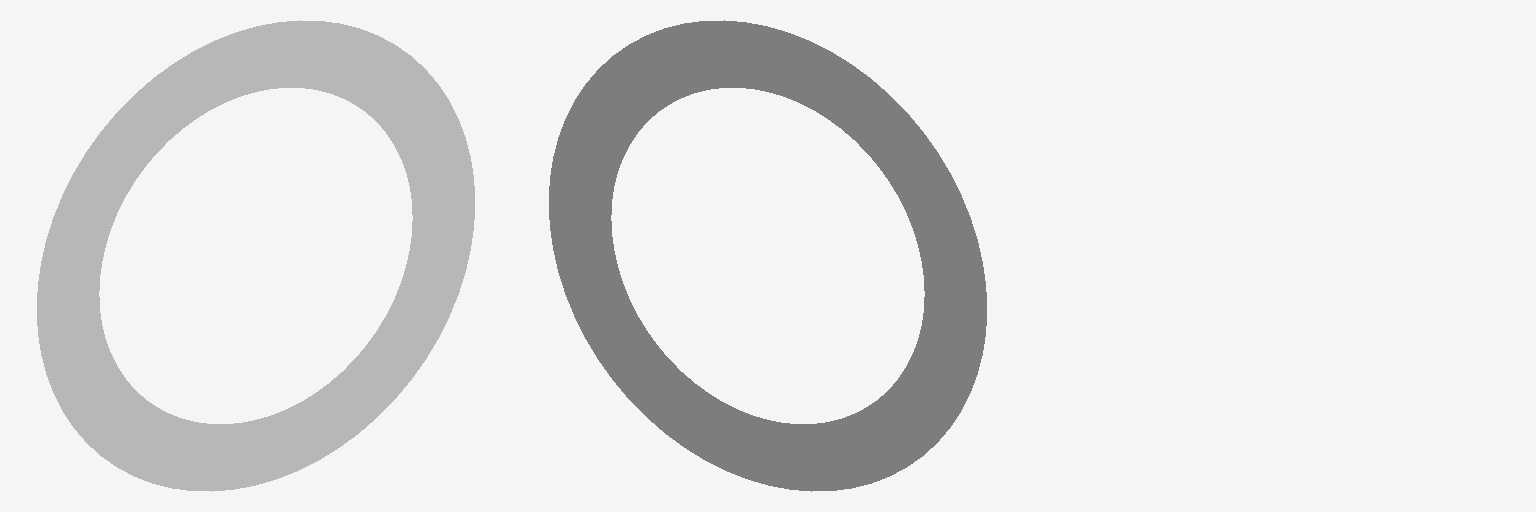
URDF robot description (race_gate):
<?xml version="1.0"?>
<robot name="race_gate">
  <link name="gate_link">
    <visual>
      <origin xyz="0 0 0" rpy="0 0 0"/>
      <geometry>
        <mesh filename="gate.obj"/>
      </geometry>
      <material name="white">
        <color rgba="1 1 1 1"/>
      </material>
    </visual>
    <collision>
      <origin xyz="0 0 0" rpy="0 0 0"/>
      <geometry>
        <mesh filename="gate.obj"/>
      </geometry>
    </collision>
    <inertial>
      <mass value="0.1"/>
      <inertia
        ixx="0.001" ixy="0" ixz="0"
        iyy="0.001" iyz="0"
        izz="0.001"/>
    </inertial>
  </link>
</robot>

--- What the picture shows (computed from the rendered views, not written in the file) ---
Views: 3 orthographic renders of the robot side by side, from view 1: azimuth 30°, elevation 25°; view 2: azimuth 150°, elevation 25°; view 3: azimuth 270°, elevation 25°.
Robot: race_gate — 1 links, 0 joints (none); root link gate_link; default pose: every joint at zero.
Visible links, largest first — view 1: gate_link; view 2: gate_link; view 3: none.
Boxes of the visible links, x1,y1,x2,y2 form: gate_link: (37, 20, 474, 491); gate_link: (549, 20, 986, 491).
Bounding box of the posed robot: 1.4 × 0 × 1.4 m (x, y, z).
1 mesh visuals loaded from 1 distinct referenced files (1 OBJ).